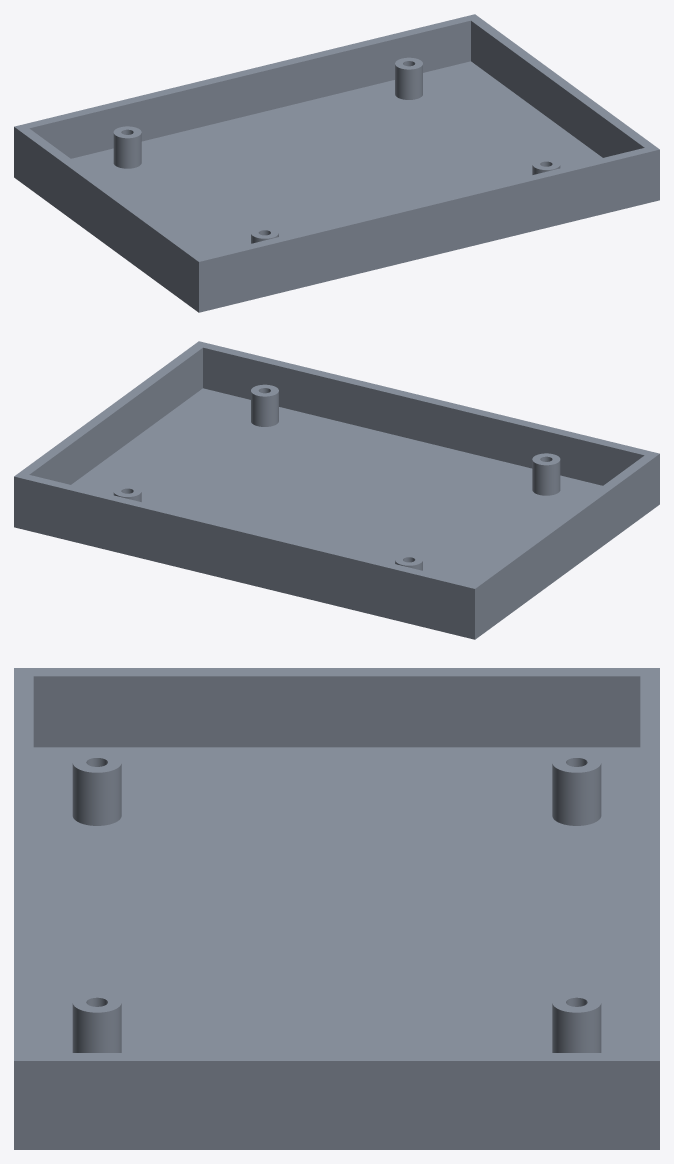
The model's file is step-2.glb.
The picture shows the model from 3 angles, top to bottom: view 1: azimuth 30°, elevation 25°; view 2: azimuth 150°, elevation 25°; view 3: azimuth 270°, elevation 25°; orthographic projection. The views are drawn at different scales.
Parts seen in each view (by area): view 1: face_ef6d88a4cd8997070690, face_0a1af4f70dc0b933c76f, face_3a83df4b654593695a58, face_952ca9065dc4f911b8a1, face_67f7afac1748b4e15a77, face_ee90ee5599698850c4bf, face_0076d322353689d34e9e, face_ab7e9459e58d4edf25d3; view 2: face_ef6d88a4cd8997070690, face_8149a7740fc6ddde22ef, face_eca590c086bdf80de5ad, face_952ca9065dc4f911b8a1, face_67f7afac1748b4e15a77, face_ee90ee5599698850c4bf, face_b7f1f67ce0578a718de9, face_19cde01a880a691dbd9a; view 3: face_ef6d88a4cd8997070690, face_7df0aa3fe0bbb4b24e8e, face_ca97dec9b1be6da516c3, face_67f7afac1748b4e15a77, face_b7f1f67ce0578a718de9, face_0076d322353689d34e9e, face_19cde01a880a691dbd9a, face_ab7e9459e58d4edf25d3, face_84329a1e25b0e0f30347, face_25802644d90095c8a252, face_8c4d65af11e97104ef32, face_0f702b3af7bccad5200f.
Part boxes in pixels (box(x1,y1,x2,y2)): face_ef6d88a4cd8997070690: box(71, 61, 602, 255); face_0a1af4f70dc0b933c76f: box(199, 149, 659, 312); face_3a83df4b654593695a58: box(29, 20, 470, 158); face_952ca9065dc4f911b8a1: box(14, 127, 198, 312); face_67f7afac1748b4e15a77: box(14, 14, 659, 261); face_ee90ee5599698850c4bf: box(471, 21, 644, 157); face_0076d322353689d34e9e: box(113, 133, 141, 168); face_ab7e9459e58d4edf25d3: box(395, 64, 422, 99); face_ef6d88a4cd8997070690: box(71, 388, 602, 582); face_8149a7740fc6ddde22ef: box(14, 476, 474, 639); face_eca590c086bdf80de5ad: box(203, 347, 644, 485); face_952ca9065dc4f911b8a1: box(475, 454, 659, 639); face_67f7afac1748b4e15a77: box(14, 341, 659, 588); face_ee90ee5599698850c4bf: box(29, 348, 202, 484); face_b7f1f67ce0578a718de9: box(532, 460, 560, 495); face_19cde01a880a691dbd9a: box(251, 391, 278, 426); face_ef6d88a4cd8997070690: box(33, 747, 640, 1052); face_7df0aa3fe0bbb4b24e8e: box(14, 1061, 659, 1149); face_ca97dec9b1be6da516c3: box(33, 676, 640, 747); face_67f7afac1748b4e15a77: box(14, 668, 659, 1060); face_b7f1f67ce0578a718de9: box(72, 763, 121, 825); face_0076d322353689d34e9e: box(552, 763, 601, 825); face_19cde01a880a691dbd9a: box(72, 1003, 121, 1052); face_ab7e9459e58d4edf25d3: box(552, 1003, 601, 1052); face_84329a1e25b0e0f30347: box(72, 992, 121, 1012); face_25802644d90095c8a252: box(552, 992, 601, 1012); face_8c4d65af11e97104ef32: box(72, 752, 121, 772); face_0f702b3af7bccad5200f: box(552, 752, 601, 772).
Size of the model in its own units: 0.095 by 0.01 by 0.066.
